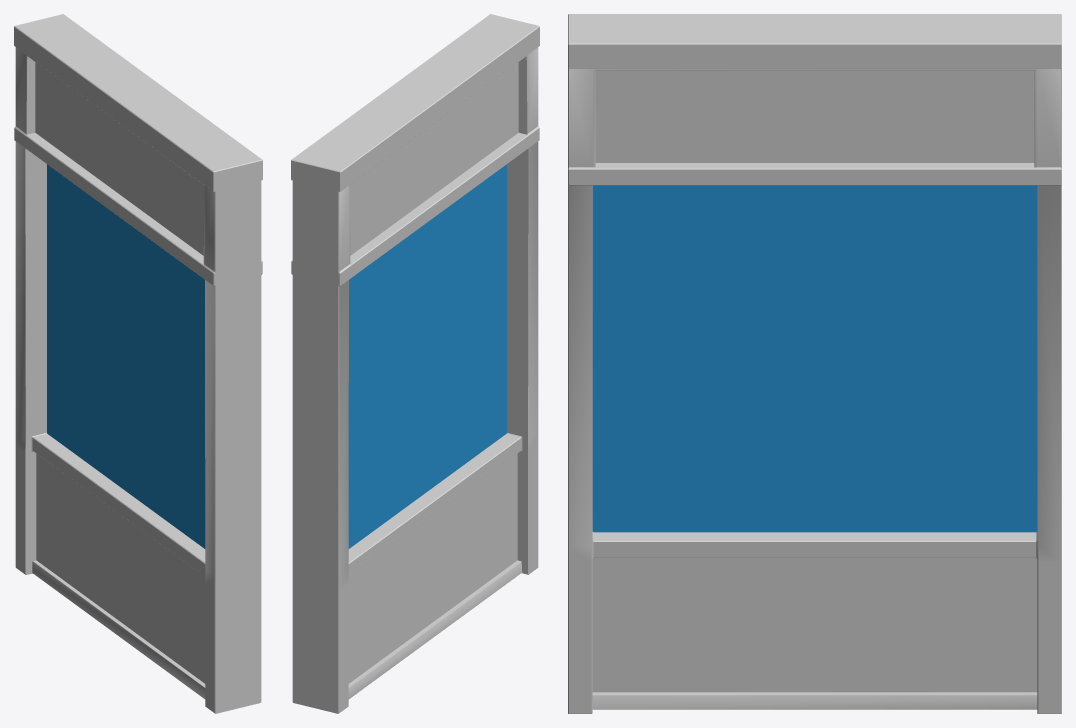
Rendered from WALLS2.fbx.
3 views of the same model, side by side, from view 1: azimuth 30°, elevation 25°; view 2: azimuth 150°, elevation 25°; view 3: azimuth 270°, elevation 25° (orthographic). The views are drawn at different scales.
Parts seen in each view (by area): view 1: Wall2; view 2: Wall2; view 3: Wall2.
Boxes of the visible parts, x1=… form: Wall2: x1=14, y1=14, x2=262, y2=713; Wall2: x1=291, y1=14, x2=539, y2=713; Wall2: x1=568, y1=14, x2=1061, y2=713.
Size of the model in its own units: 28.99 by 300 by 200.
